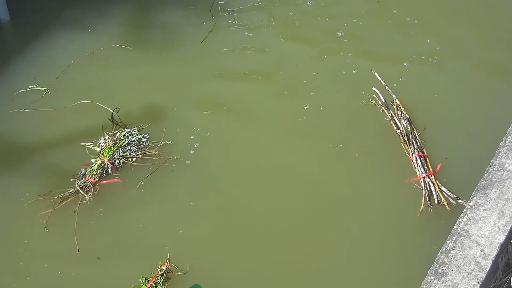twig: (14, 107, 201, 254), (363, 66, 478, 215), (133, 247, 197, 288)
